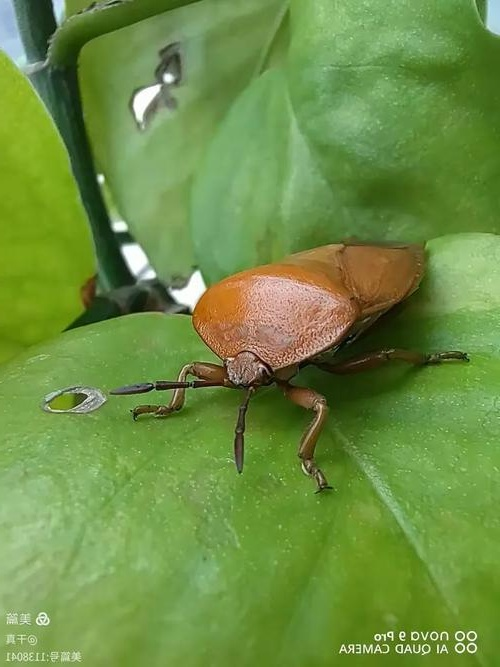Stink_Bug: (171, 213, 457, 410)
